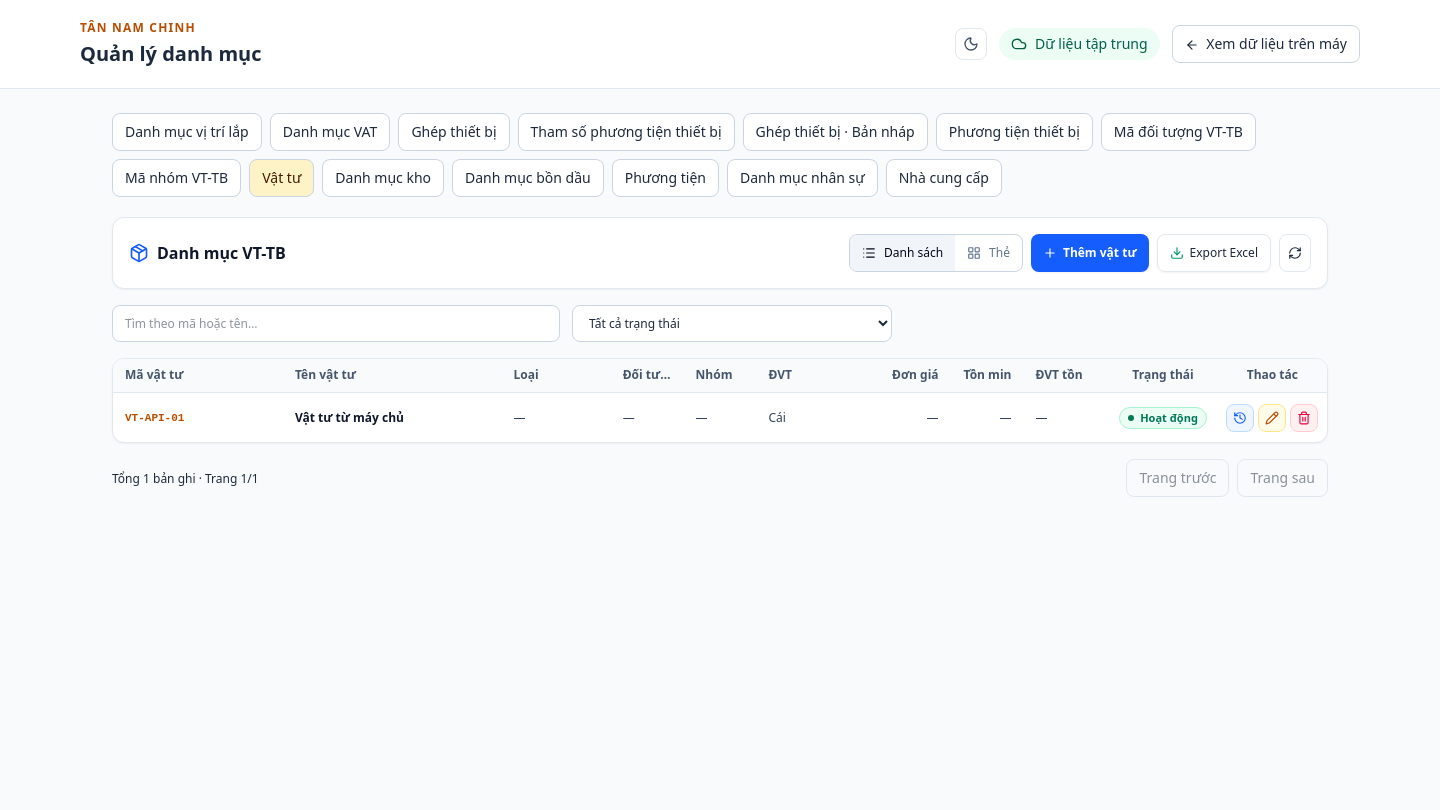
Test: network errors retain form values without writing any browser cache
Expected: the text "Vật tư từ máy chủ" is shown, 283,392 -> 502,442
Click the button named "Sửa Vật tư từ máy chủ".
click(1272, 418)  # box 1258,404 -> 1286,432
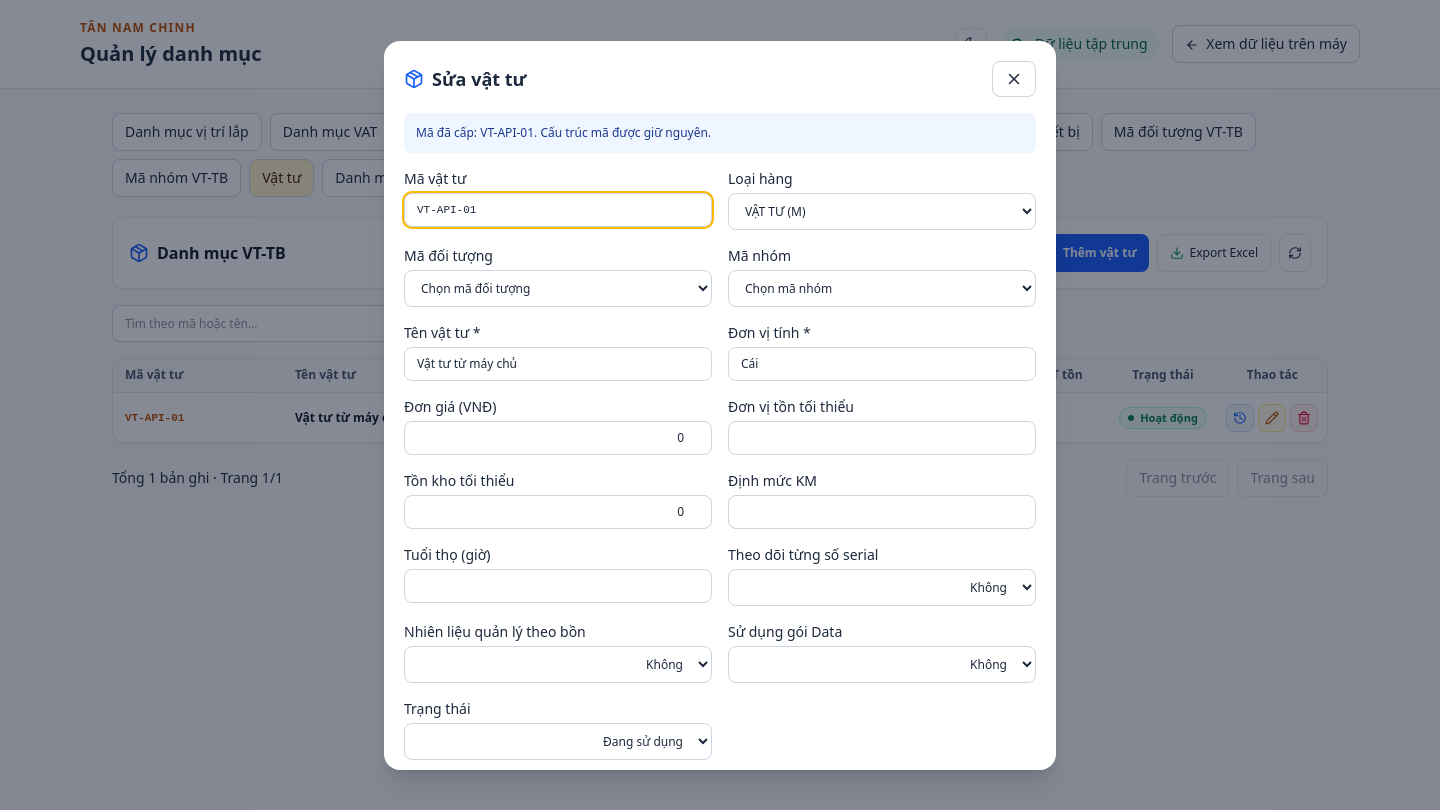
Replace the text in the field labelled "Tên vật tư *" with "Chờ lưu" at [558, 364], box 404,346 -> 712,380
(page scrolled)
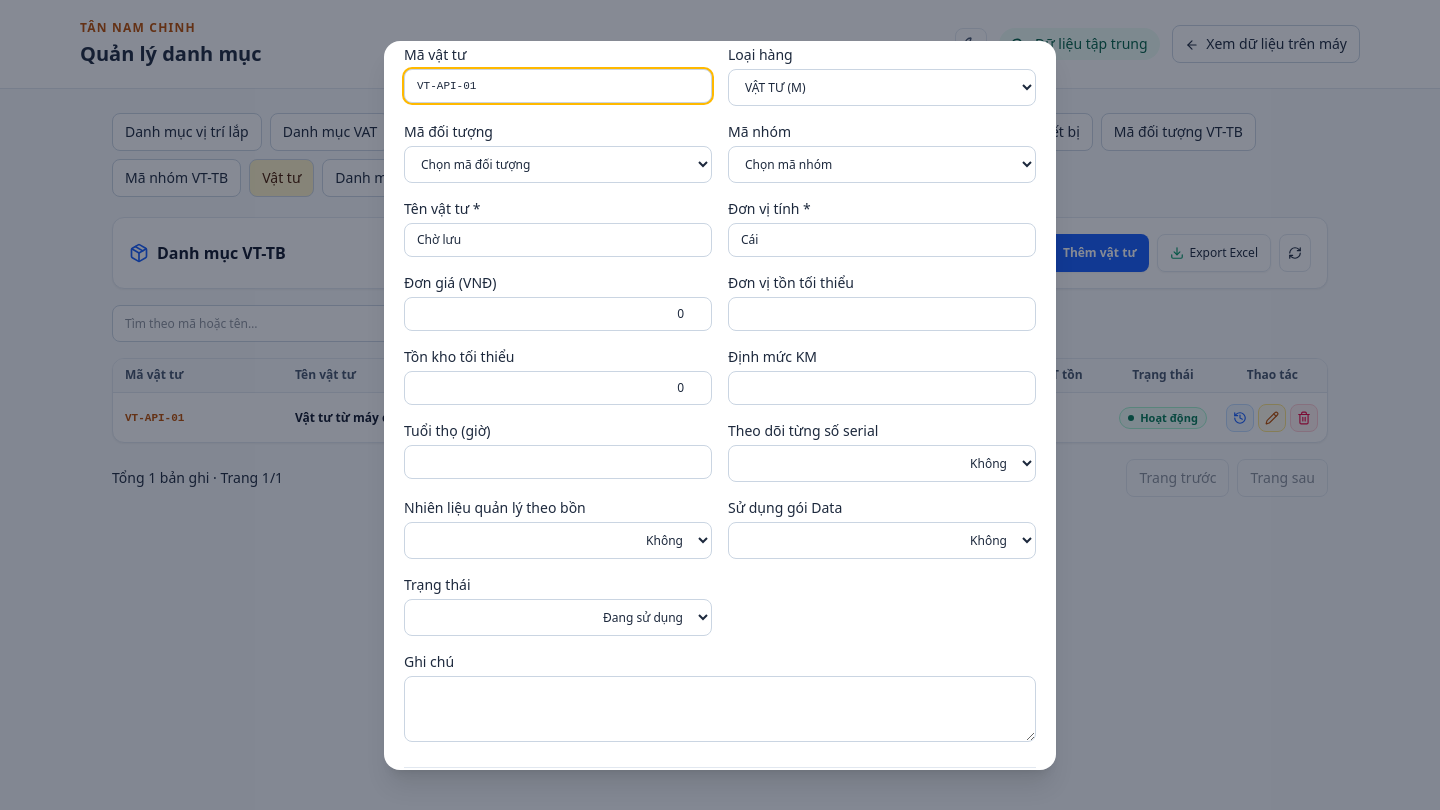
Submit the form
(page scrolled)
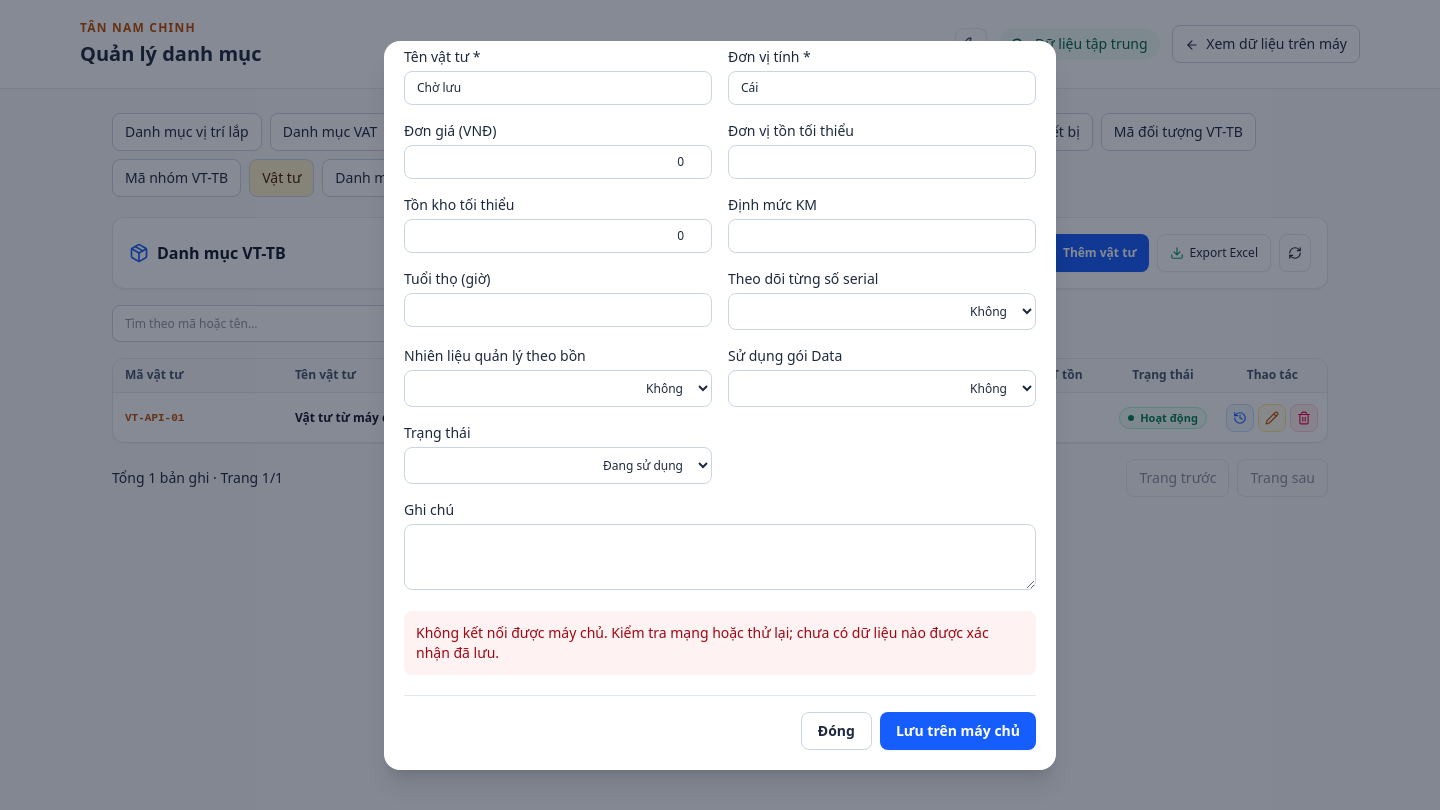
Expected: the text "Không kết nối được máy chủ" is shown, 416,622 -> 989,662
